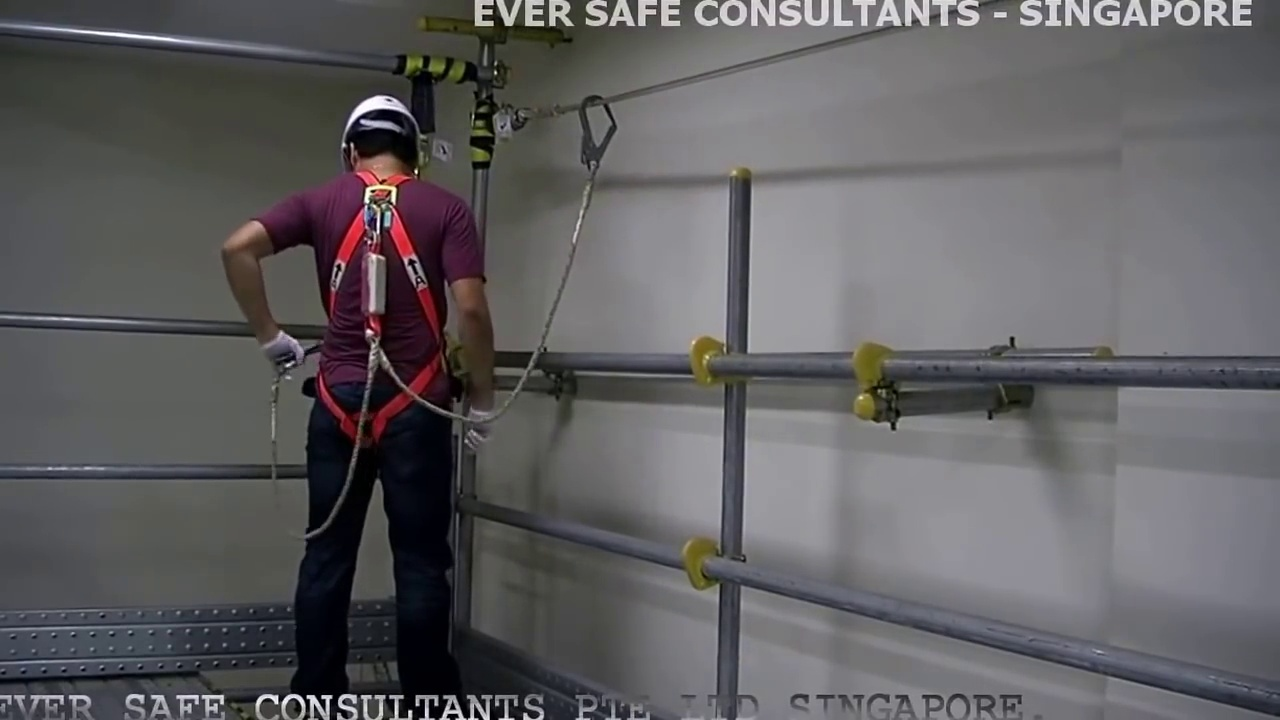harness: (322, 187, 436, 433)
helmet: (337, 92, 419, 127)
hook: (571, 89, 621, 168)
leash: (497, 212, 581, 412)
